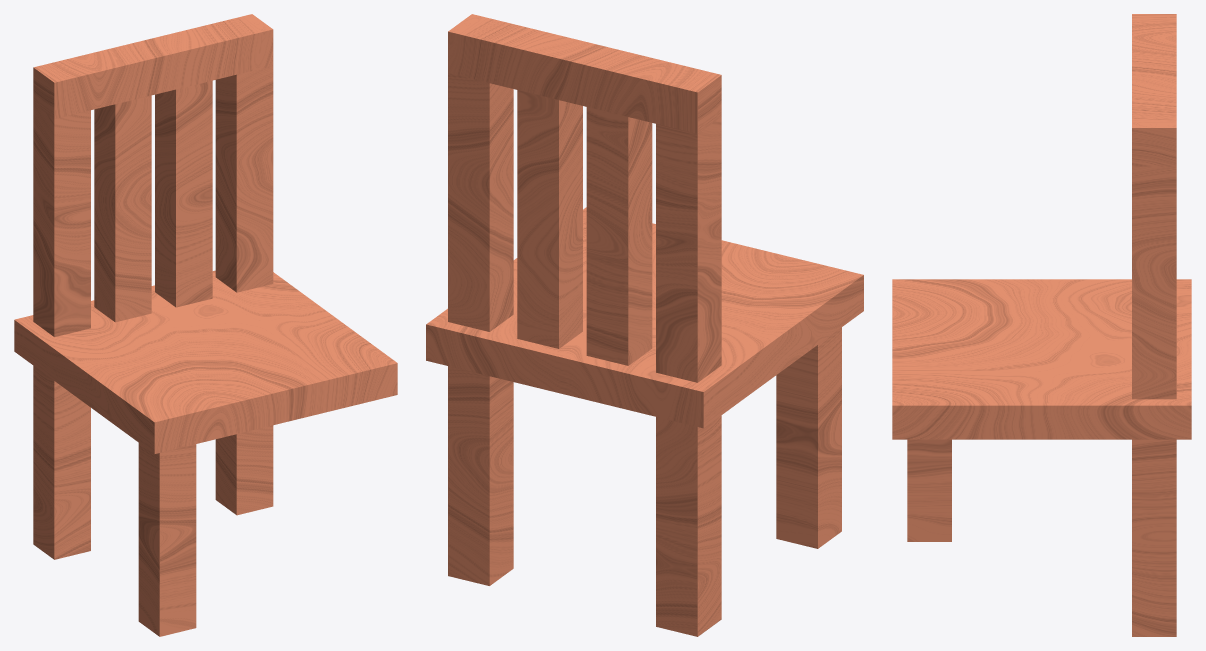
Rendered from Chair-Broken.fbx.
3 renders of one model, left to right at view 1: azimuth 30°, elevation 25°; view 2: azimuth 150°, elevation 25°; view 3: azimuth 270°, elevation 25°, orthographic. The views are drawn at different scales.
Visible parts, largest first — view 1: Chair-Base; view 2: Chair-Base; view 3: Chair-Base.
Boxes of the visible parts, x1,y1,x2,y2 form: Chair-Base: (14,14,397,636); Chair-Base: (426,14,863,636); Chair-Base: (892,14,1191,636).
Bounding box in the file's own units: 200 × 375 × 200.
Materials: 1 (1 with a texture image).
